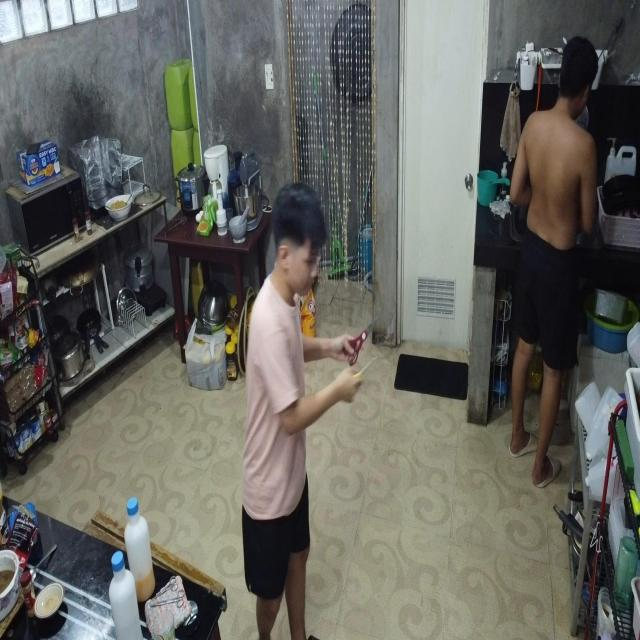scissor: (342, 318, 378, 367), (151, 588, 184, 611), (153, 575, 178, 600)
